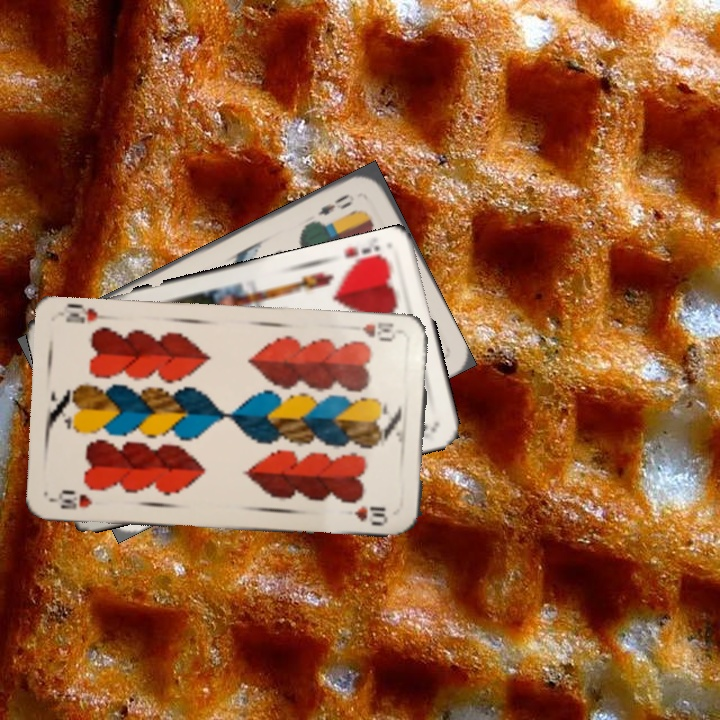EO: (314, 189, 357, 218)
H10: (359, 318, 407, 344), (49, 488, 95, 512)
HK: (338, 240, 390, 273)
